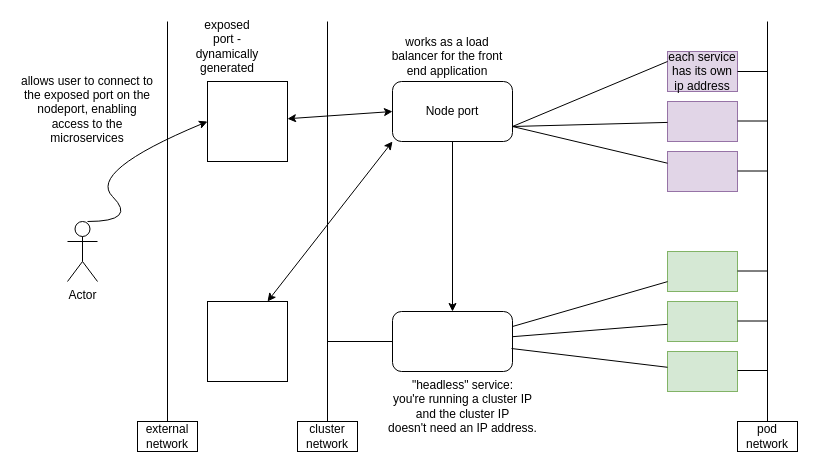
This 815x469 diagram has some shape labels left out. The shapes that lost their labels are listed below. From the top down, each one's centre as x and y in pixels, then its label:
At (247,121): "port: 31698".
At (247,341): "port: 31678".
At (452,341): "Cluster IP (only available in the cluster)".
